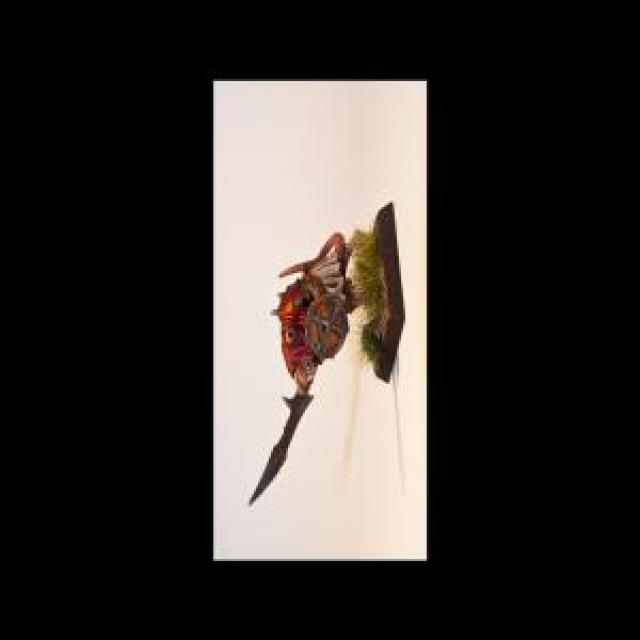knife: (247, 364, 319, 506)
